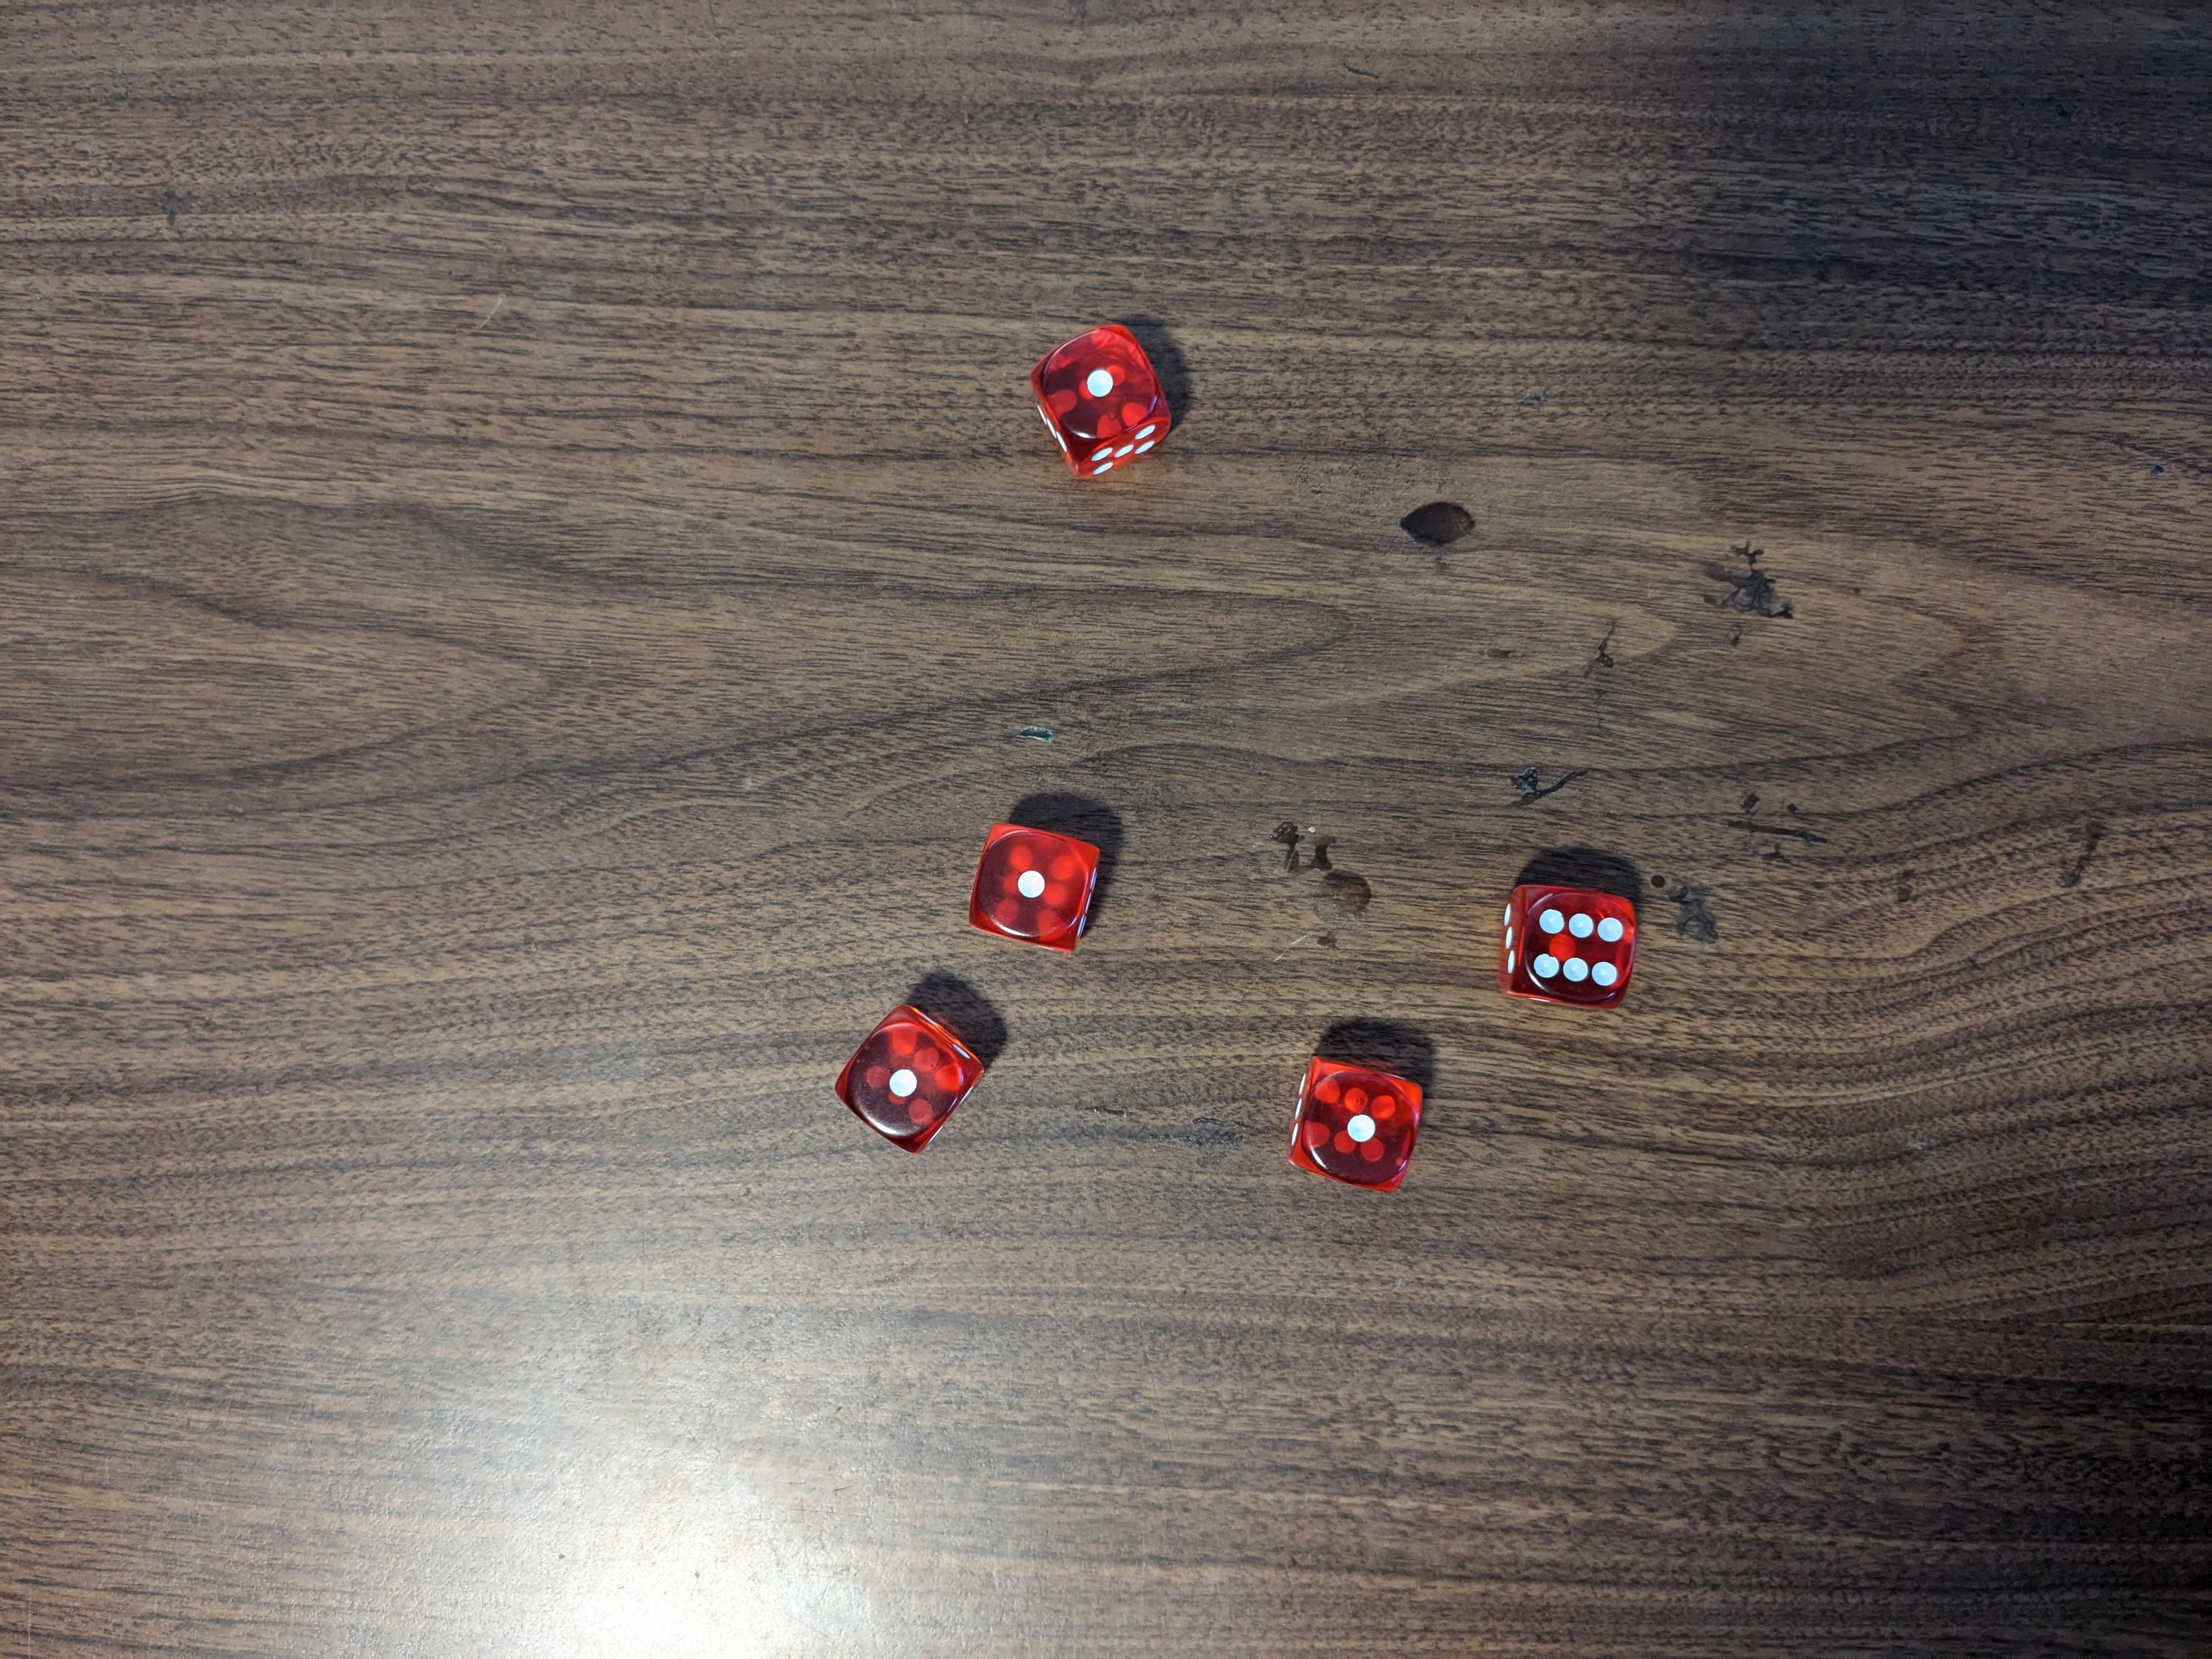one: (841, 999, 991, 1155), (1031, 322, 1176, 481), (963, 819, 1099, 972), (1278, 1061, 1437, 1182)
six: (1498, 873, 1639, 1009)
